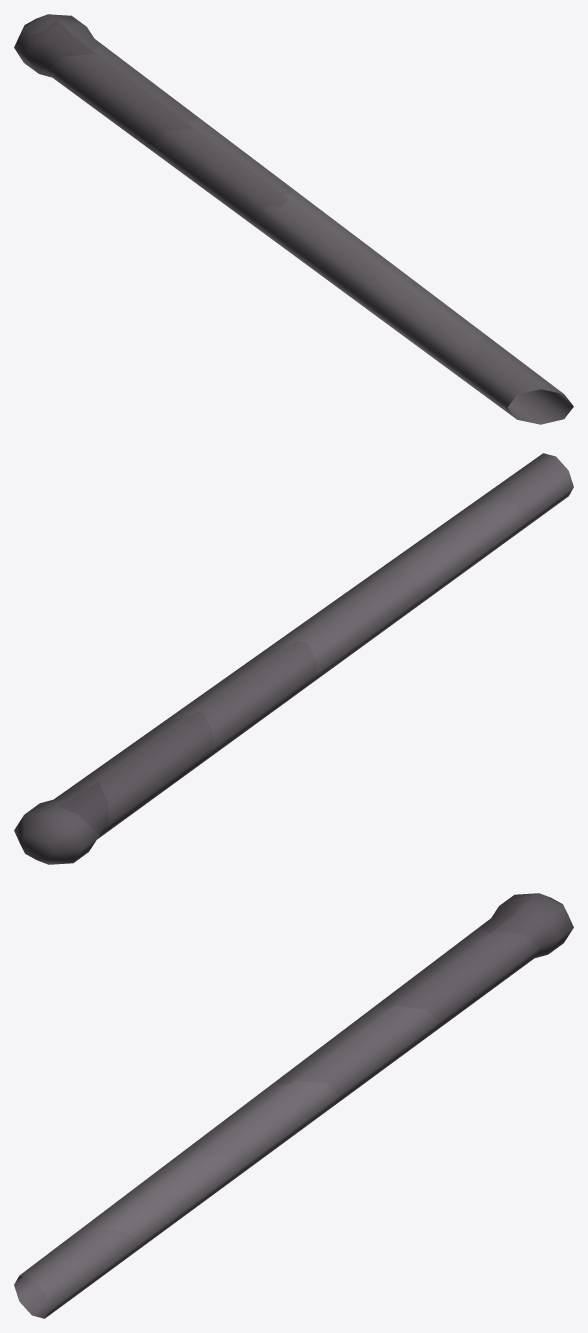
Rendered from fighterPulseCannon.fbx.
3 views of the same model, one above another, from view 1: azimuth 30°, elevation 25°; view 2: azimuth 150°, elevation 25°; view 3: azimuth 330°, elevation 25° (orthographic). The views are drawn at different scales.
Parts seen in each view (by area): view 1: Cube; view 2: Cube; view 3: Cube.
Boxes of the visible parts, x1,y1,x2,y2 form: Cube: (14,14,573,424); Cube: (14,453,573,864); Cube: (14,893,573,1318).
Bounding box in the file's own units: 0.0877 × 0.0622 × 1.15.
